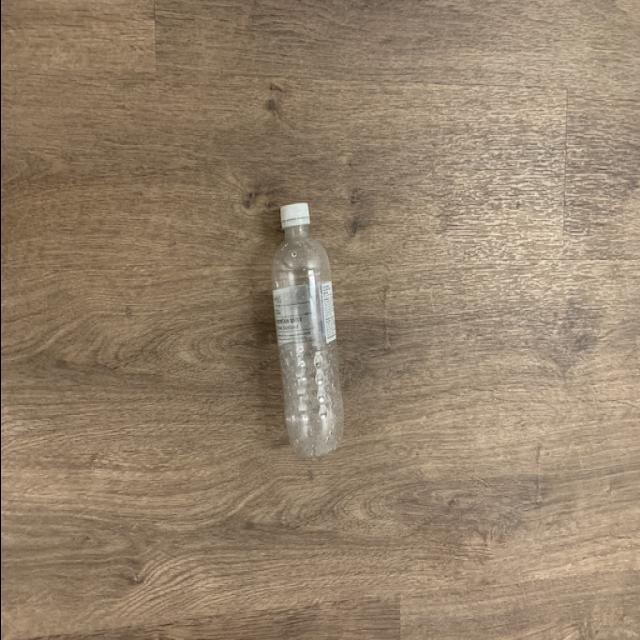PET: (246, 186, 344, 462)
